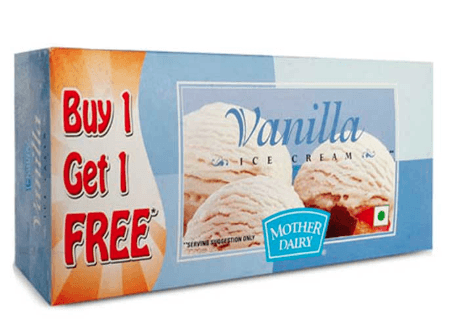Mother_Dairy: (251, 201, 337, 266)
